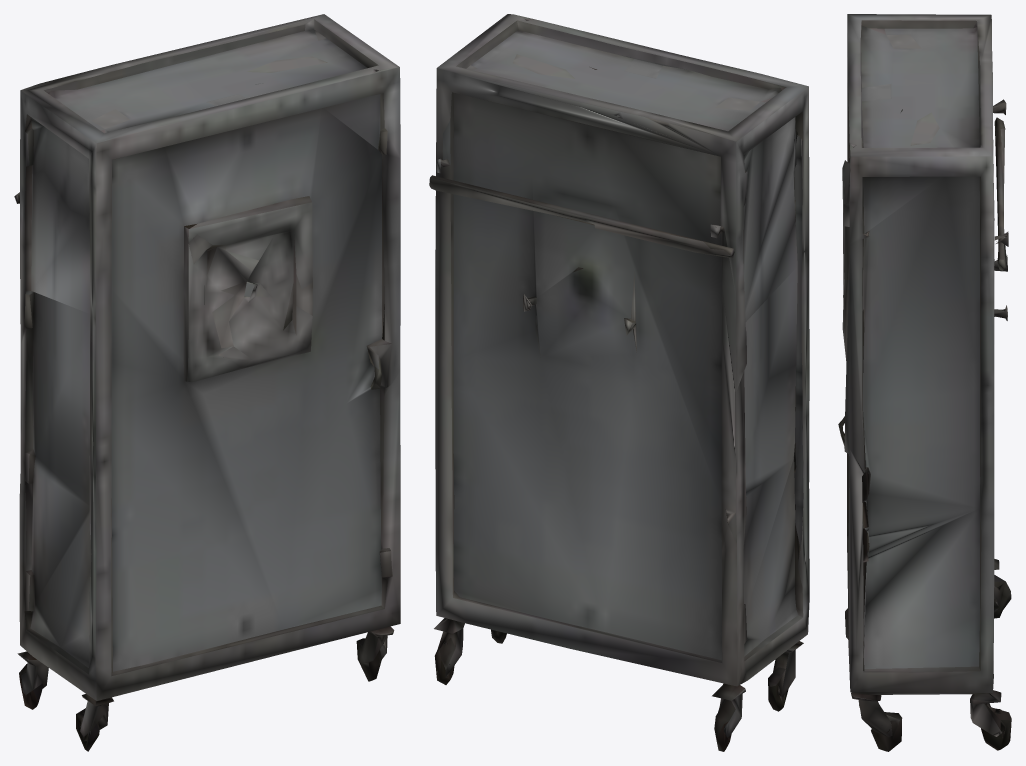
File: biombo_plomo.movil.glb
The picture shows the model from 3 angles, left to right: view 1: azimuth 30°, elevation 25°; view 2: azimuth 150°, elevation 25°; view 3: azimuth 270°, elevation 25°; orthographic projection. The views are drawn at different scales.
Visible parts, largest first — view 1: geometry_0; view 2: geometry_0; view 3: geometry_0.
Part boxes in pixels (box(x1,y1,x2,y2)): geometry_0: box(14, 14, 400, 751); geometry_0: box(429, 14, 809, 751); geometry_0: box(838, 14, 1011, 751).
Bounding box in the file's own units: 0.9857 × 1.9 × 0.4957.
1 material, 1 textured.
